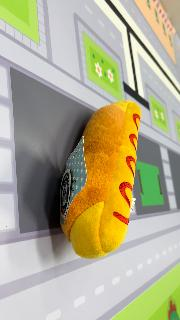hotdog: (58, 100, 142, 260)
